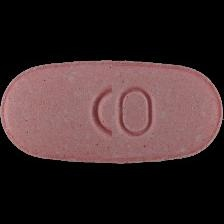57237-005: (0, 0, 224, 224)
